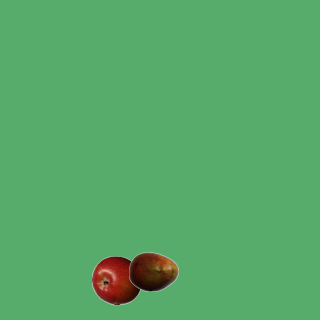Apple Braeburn: (91, 255, 141, 305)
Mango Red: (128, 246, 178, 296)
